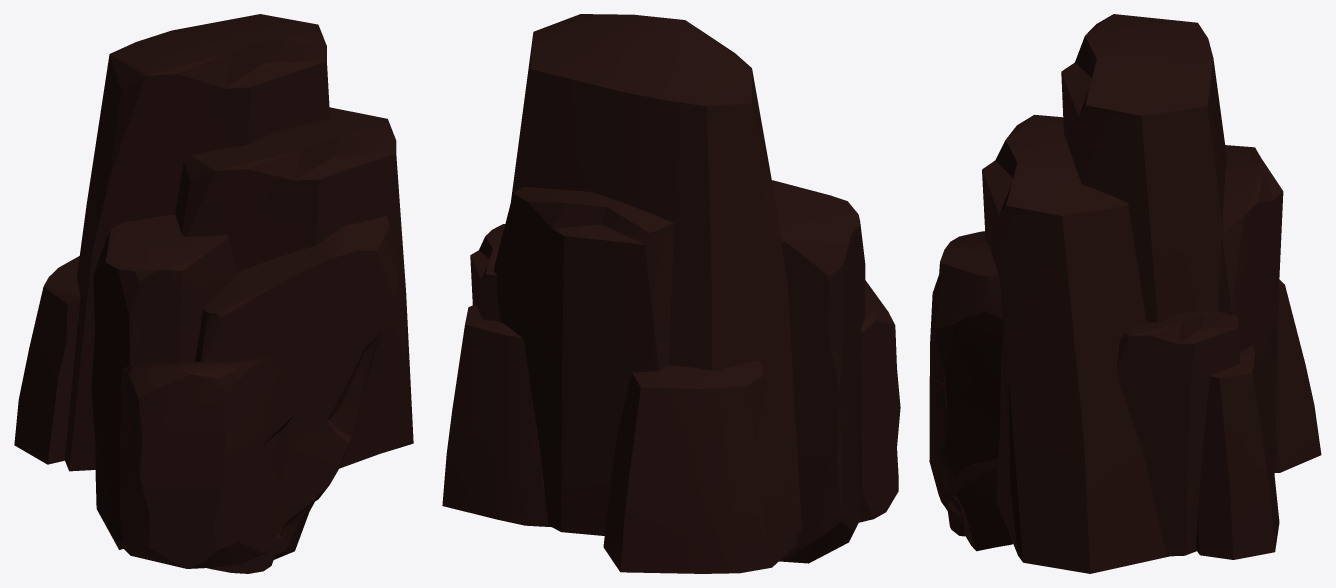
The model's file is SM_Rock_Collection_03.fbx.
The picture shows the model from 3 angles, left to right: view 1: azimuth 30°, elevation 25°; view 2: azimuth 150°, elevation 25°; view 3: azimuth 270°, elevation 25°; orthographic projection. The views are drawn at different scales.
Visible parts, largest first — view 1: Group65240; view 2: Group65240; view 3: Group65240.
Part boxes in pixels (bbox=[...]): Group65240: bbox=[14, 14, 413, 573]; Group65240: bbox=[442, 14, 900, 573]; Group65240: bbox=[929, 14, 1321, 573].
Bounding box in the file's own units: 336 × 463 × 321.
